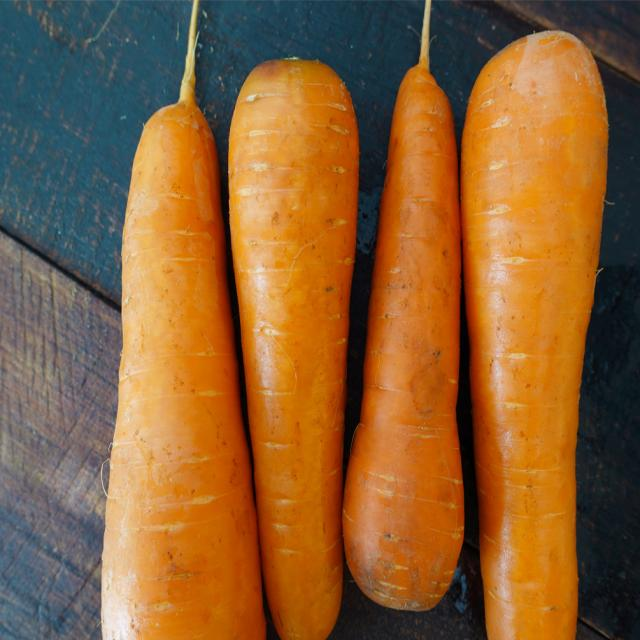carrot: (102, 38, 266, 640), (458, 25, 612, 640), (225, 53, 362, 640), (342, 28, 464, 618)
